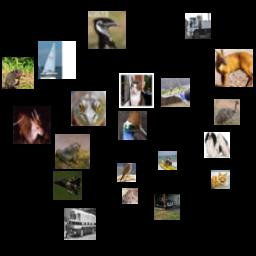airplane: (161, 78, 190, 107), (53, 171, 82, 200)
automobile: (154, 194, 180, 220)
bird: (88, 11, 126, 49), (118, 111, 147, 140), (214, 99, 240, 125), (117, 163, 136, 182)
cat: (119, 73, 154, 108), (211, 170, 230, 189)
deer: (215, 49, 253, 87), (13, 106, 51, 144)
dog: (204, 132, 230, 158)
frog: (55, 134, 90, 169), (71, 91, 106, 126), (2, 57, 34, 89), (122, 188, 138, 204)
ship: (38, 41, 76, 79), (158, 151, 177, 170)
truck: (64, 208, 96, 240), (185, 13, 211, 39)
